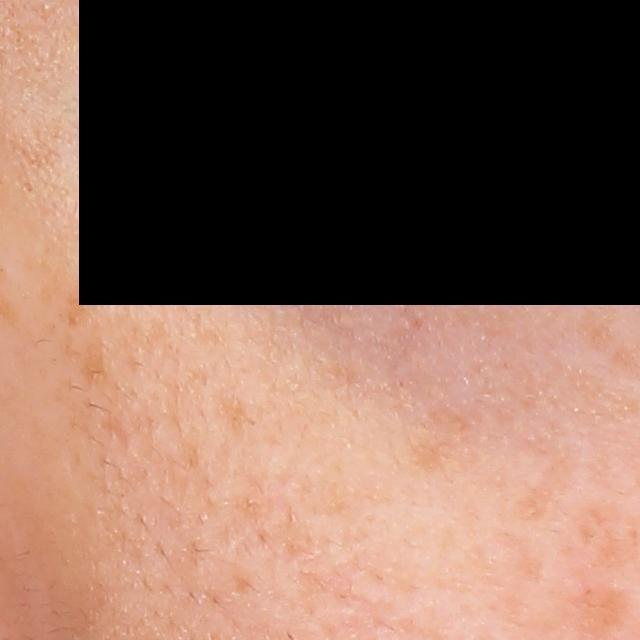melasma: (511, 447, 589, 528), (403, 405, 478, 479), (59, 321, 107, 393), (209, 385, 259, 443), (63, 281, 97, 331)
